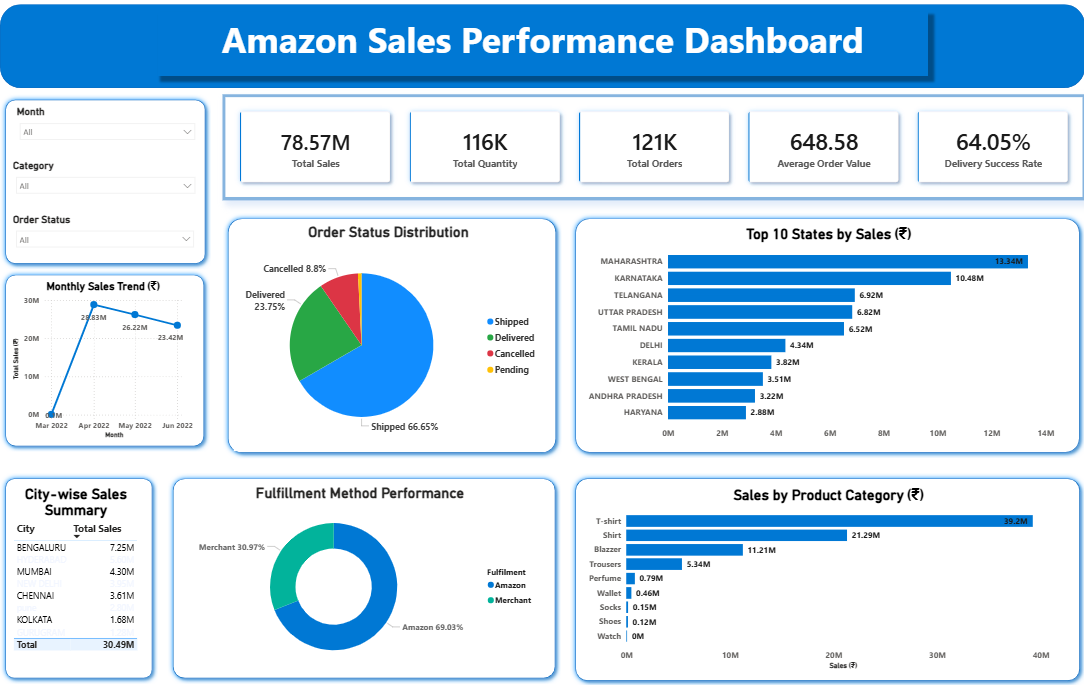

The page's visual inventory and layout, read from the dashboard file:
{"tool":"powerbi","page":{"name":"Page 1","canvas":[1800,1200],"ordinal":0},"visuals":[{"type":"shape","box":[0,67.5,1799.6,139.1],"z":0},{"type":"cardVisual","fields":{"Data":["Amazon_Sales_Cleaned.Total Sales","Amazon_Sales_Cleaned.Total Quantity","Amazon_Sales_Cleaned.Total Orders","Amazon_Sales_Cleaned.Average Order Value","Amazon_Sales_Cleaned.Delivery Success Rate"]},"box":[368.1,216.8,1431.5,175.9],"z":1000},{"type":"shape","box":[278.1,846.6,652.4,349.7],"z":2000},{"type":"donutChart","title":"Fulfillment Method Performance","fields":{"Category":["Amazon_Sales_Cleaned.Fulfilment"],"Y":["Amazon_Sales_Cleaned.Total Orders"]},"box":[294.5,865,605.3,312.9],"z":3000},{"type":"shape","box":[0,846.6,261.8,349.7],"z":4000},{"type":"shape","box":[945.4,414.7,854.2,406.4],"z":5000},{"type":"shape","box":[368.1,415.1,562.4,407],"z":6000},{"type":"pieChart","title":"Order Status Distribution","fields":{"Y":["Amazon_Sales_Cleaned.Total Sales"],"Category":["Amazon_Sales_Cleaned.Clean Status"]},"box":[388.6,431.5,513.3,378.3],"z":7000},{"type":"clusteredBarChart","title":"Top 10 States by Sales (₹)","fields":{"Y":["Amazon_Sales_Cleaned.Total Sales"],"Category":["Amazon_Sales_Cleaned.ship-state"]},"box":[969.3,433.5,807.8,366.1],"z":8000},{"type":"shape","box":[944.8,846.6,854.8,353.8],"z":9000},{"type":"clusteredBarChart","title":"Sales by Product Category (₹)","fields":{"Category":["Amazon_Sales_Cleaned.Category"],"Y":["Amazon_Sales_Cleaned.Total Sales"]},"box":[969.3,867.1,807.8,310.8],"z":10000},{"type":"shape","box":[0,216.8,349.7,290.4],"z":11000},{"type":"slicer","title":"Month","fields":{"Values":["Amazon_Sales_Cleaned.Month"]},"box":[22.5,237.2,310.8,67.5],"z":12000},{"type":"slicer","title":"Order Status","fields":{"Values":["Amazon_Sales_Cleaned.Status"]},"box":[16.4,415.1,314.9,77.7],"z":13000},{"type":"slicer","title":"Category","fields":{"Values":["Amazon_Sales_Cleaned.Category"]},"box":[16.4,325.2,317,71.6],"z":14000},{"type":"shape","box":[0,507.2,347.7,302.7],"z":15000},{"type":"lineChart","title":"Monthly Sales Trend (₹)","fields":{"Category":["Amazon_Sales_Cleaned.Month"],"Y":["Amazon_Sales_Cleaned.Total Sales"]},"box":[16.4,523.5,308.8,269.9],"z":16000},{"type":"textbox","box":[261.8,81.8,1278.1,106.3],"z":17000},{"type":"tableEx","title":"City-wise Sales Summary","fields":{"Values":["Amazon_Sales_Cleaned.City","Amazon_Sales_Cleaned.Total Sales"]},"box":[16.4,867.1,218.8,310.8],"z":18000}]}

Visuals, with their boxes in screenshot pixels (x1, y1, x2, y2):
shape: (0,1,1079,86)
cardVisual - Amazon_Sales_Cleaned.Total Sales x Amazon_Sales_Cleaned.Total Quantity: (212,92,1079,198)
shape: (157,473,553,684)
"Fulfillment Method Performance" donutChart: (167,485,534,674)
shape: (0,473,147,684)
shape: (562,212,1079,458)
shape: (212,212,553,459)
"Order Status Distribution" pieChart: (224,222,535,451)
"Top 10 States by Sales (₹)" clusteredBarChart: (576,223,1066,445)
shape: (561,473,1079,684)
"Sales by Product Category (₹)" clusteredBarChart: (576,486,1066,674)
shape: (0,92,201,268)
"Month" slicer: (2,104,191,145)
"Order Status" slicer: (0,212,189,259)
"Category" slicer: (0,158,191,201)
shape: (0,268,199,451)
"Monthly Sales Trend (₹)" lineChart: (0,278,186,441)
textbox: (147,10,922,74)
"City-wise Sales Summary" tableEx: (0,486,131,674)
